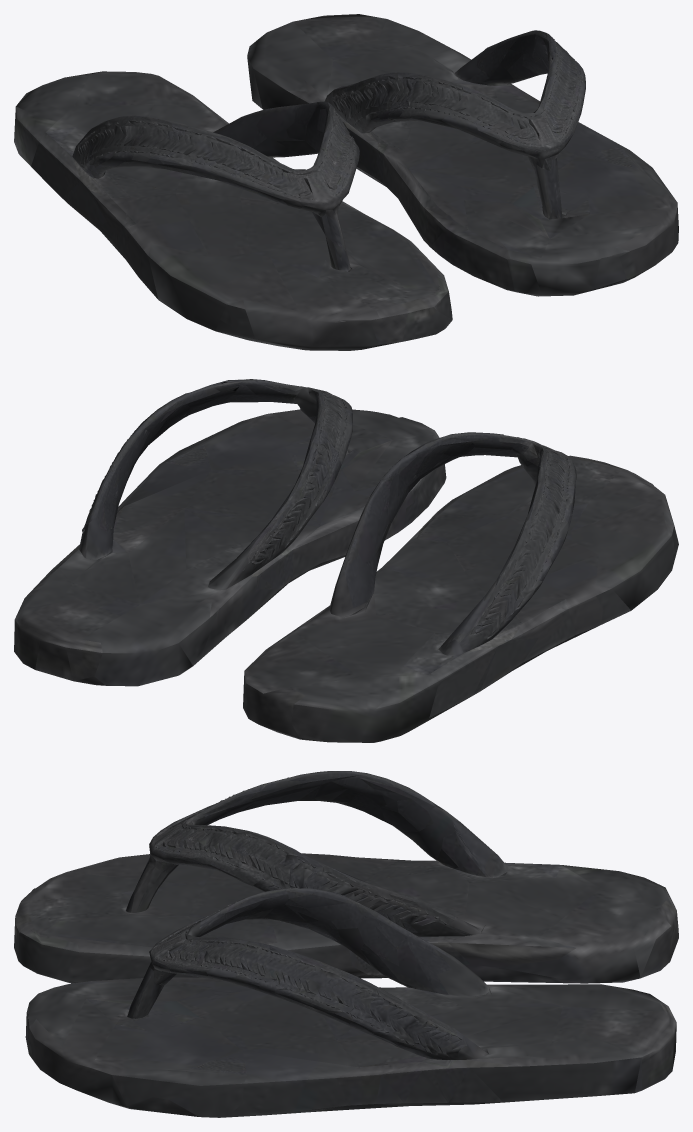
Rendered from e4sandalsa.glb.
The picture shows the model from 3 angles, top to bottom: view 1: azimuth 30°, elevation 25°; view 2: azimuth 150°, elevation 25°; view 3: azimuth 270°, elevation 25°; orthographic projection.
Parts seen in each view (by area): view 1: output_unwrapped; view 2: output_unwrapped; view 3: output_unwrapped.
Boxes of the visible parts, box(x1,y1,x2,y2) form: output_unwrapped: box(14, 14, 678, 350); output_unwrapped: box(14, 379, 678, 742); output_unwrapped: box(14, 771, 678, 1117).
Size of the model in its own units: 0.2261 by 0.0648 by 0.27.
1 material, 1 textured.
